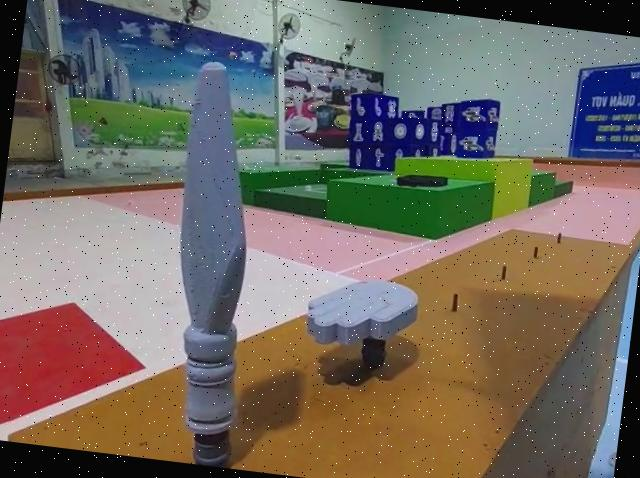Hand: (300, 271, 419, 380)
Sph: (145, 60, 278, 469)
